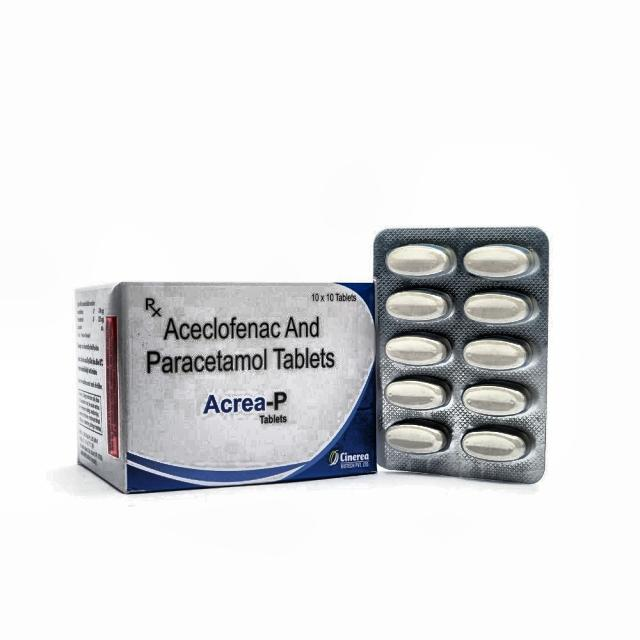Paracetamol: (124, 286, 372, 474)
